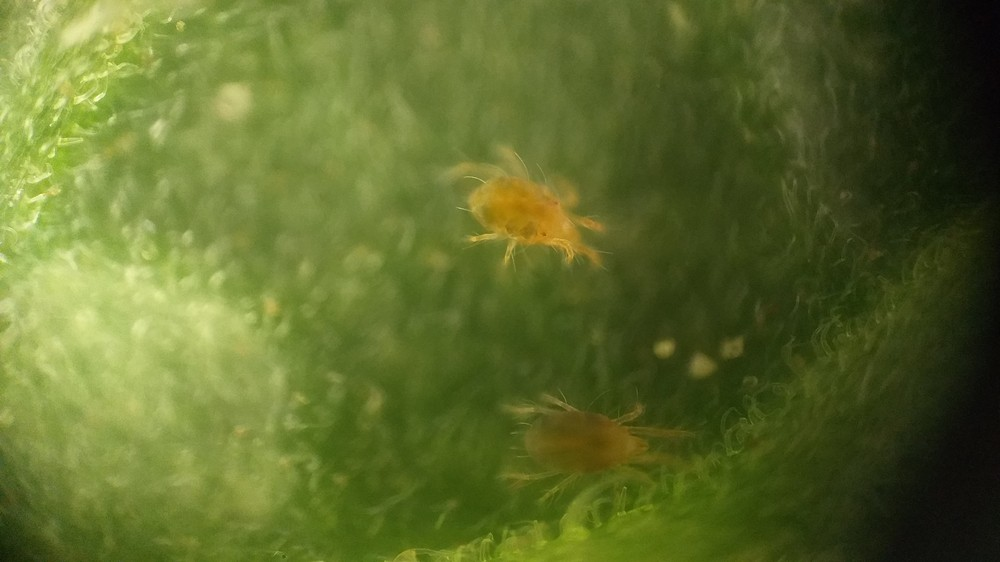Aracnido Rojo: (430, 127, 643, 308), (481, 356, 720, 513)
